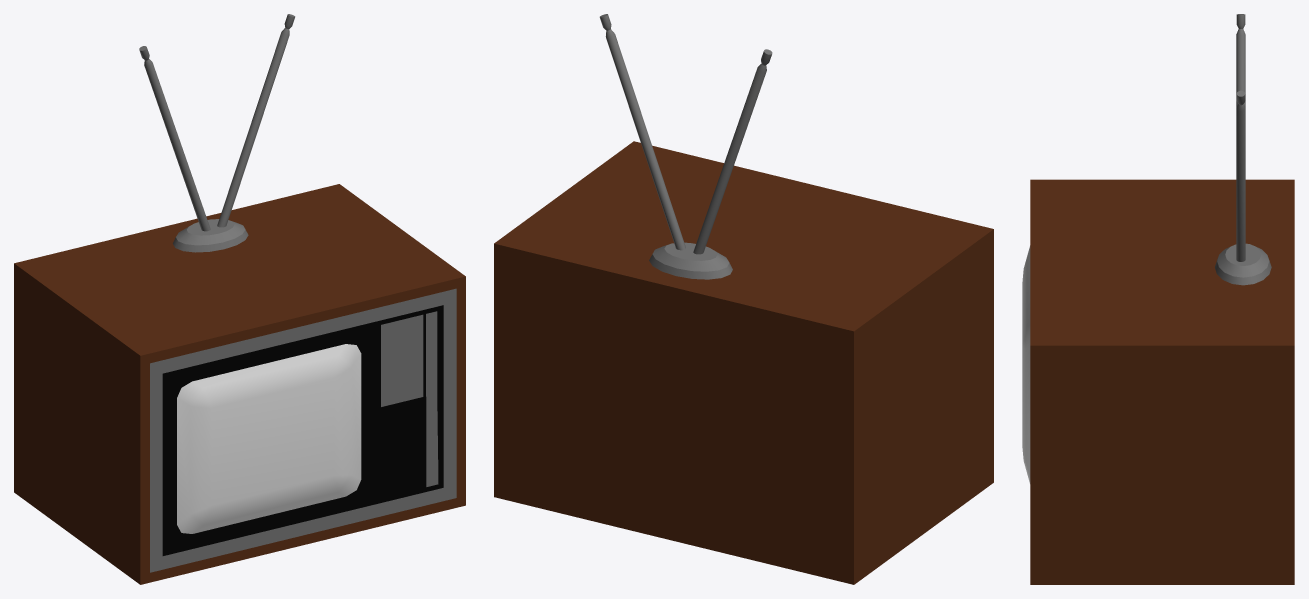
The picture shows the model from 3 angles, left to right: view 1: azimuth 30°, elevation 25°; view 2: azimuth 150°, elevation 25°; view 3: azimuth 270°, elevation 25°; orthographic projection. The views are drawn at different scales.
Visible parts, largest first — view 1: TV; view 2: TV; view 3: TV.
Part boxes in pixels (box(x1,y1,x2,y2)): TV: box(14, 14, 465, 584); TV: box(494, 14, 993, 584); TV: box(1022, 14, 1294, 584).
Size of the model in its own units: 195 by 251 by 135.
